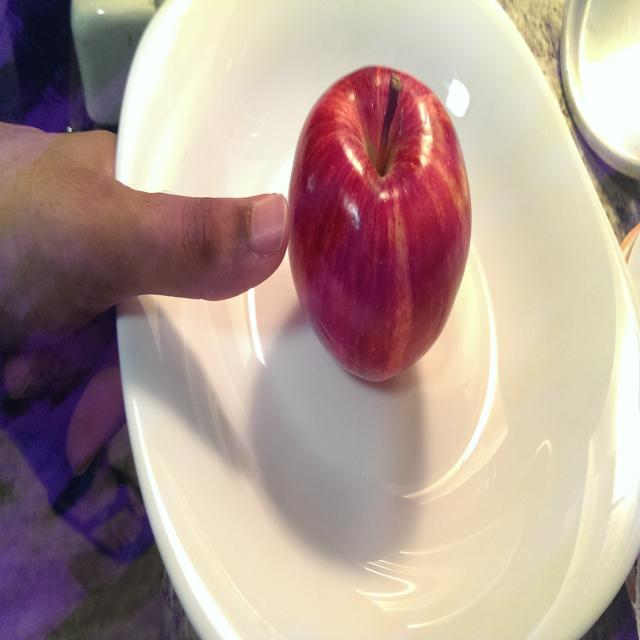Apple: (286, 61, 477, 394)
Finger: (160, 183, 292, 310)
